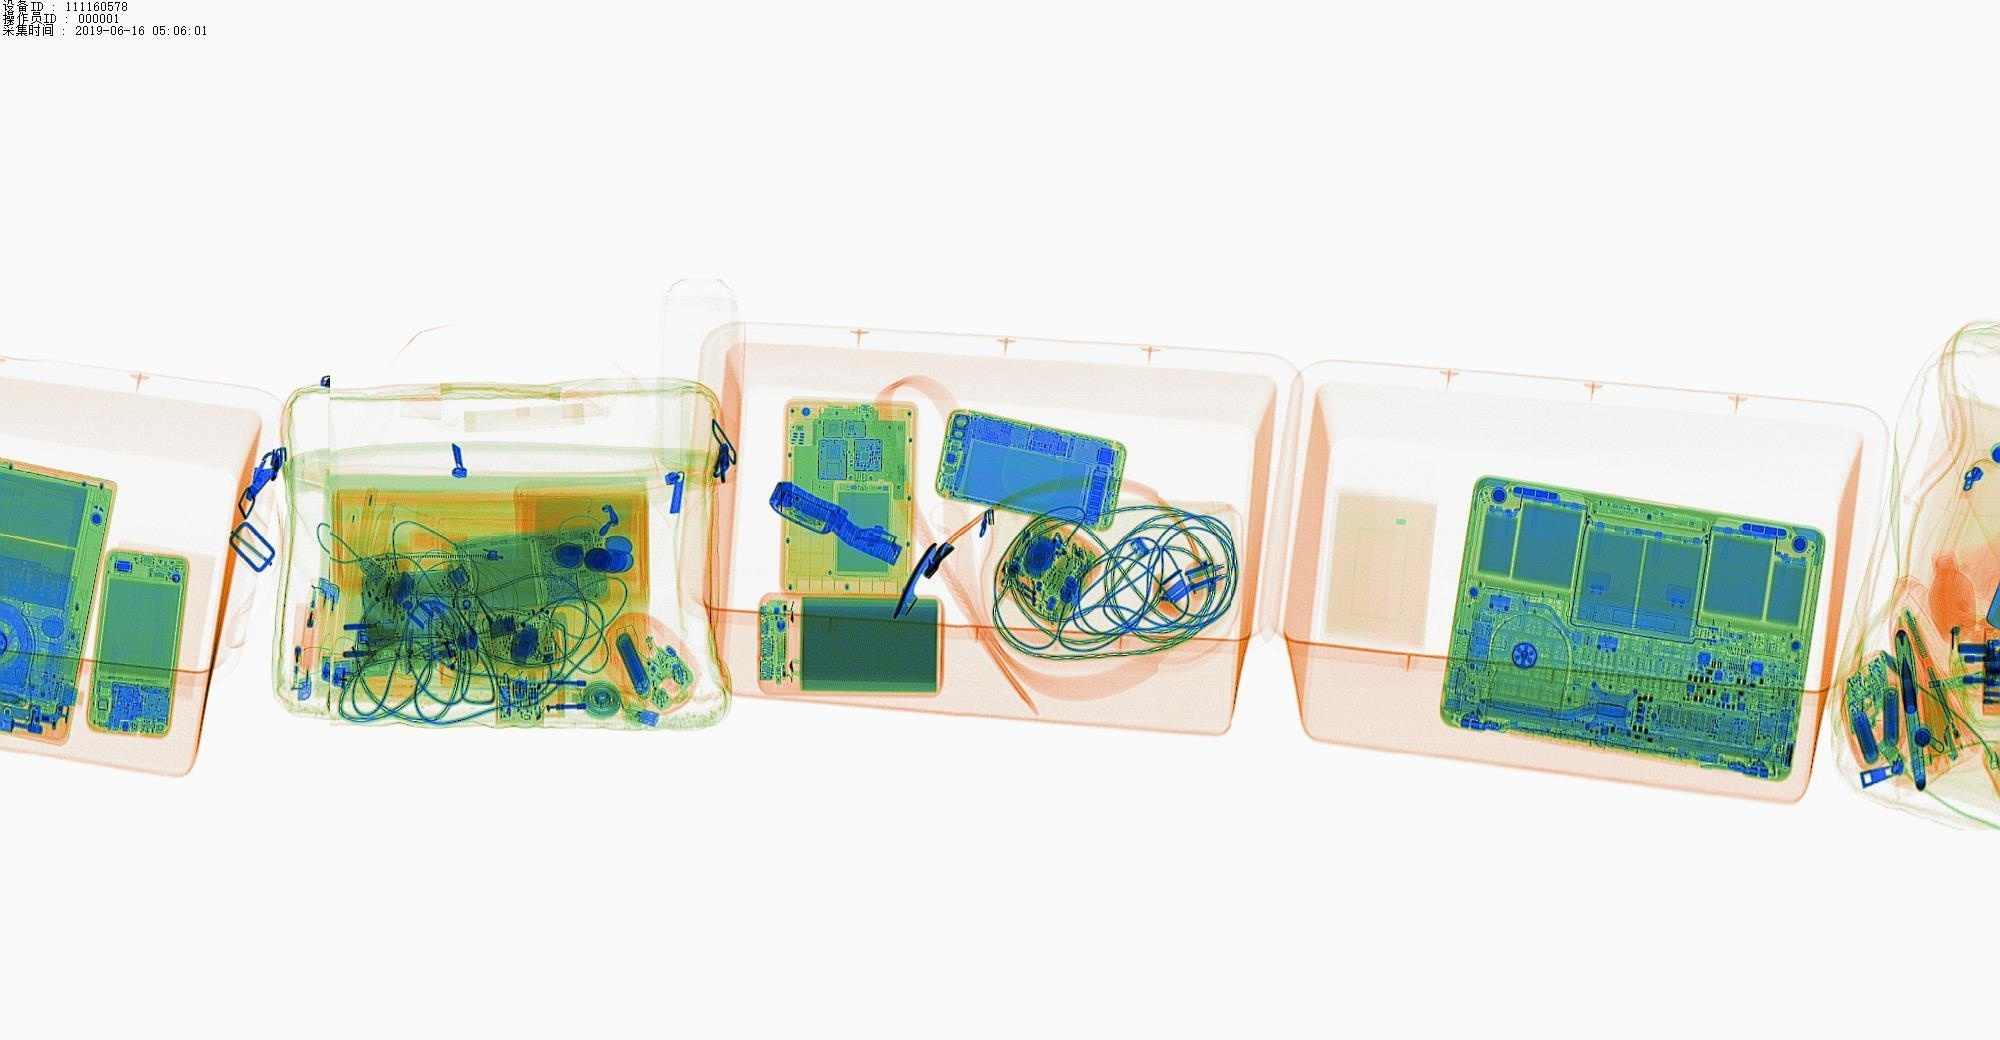NonmetallicFire: (288, 566, 352, 742), (372, 531, 423, 642)
